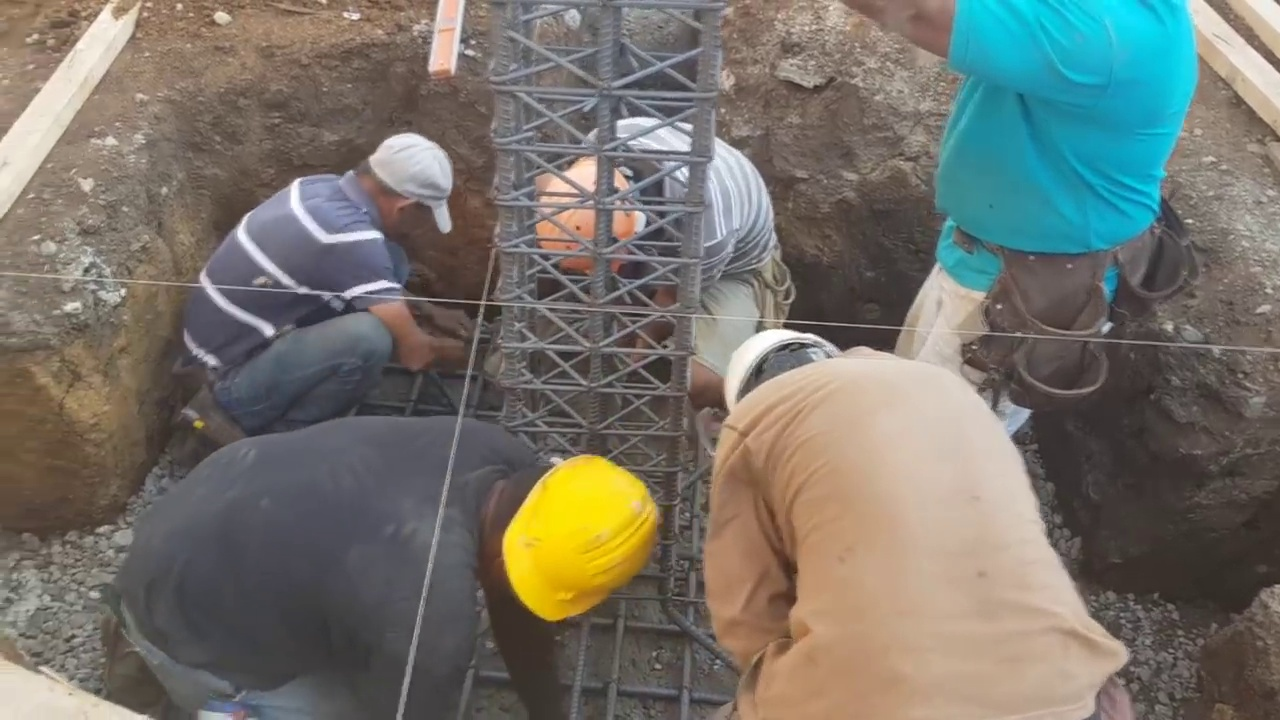helmet: (491, 455, 659, 623), (544, 148, 647, 281), (725, 334, 837, 419)
helmet-off: (346, 133, 455, 238)
helmet-on: (464, 441, 655, 630), (535, 144, 672, 290), (715, 330, 854, 434)
person: (65, 386, 669, 720), (684, 333, 1157, 720), (886, 0, 1196, 455), (187, 120, 468, 431), (538, 139, 751, 403)
